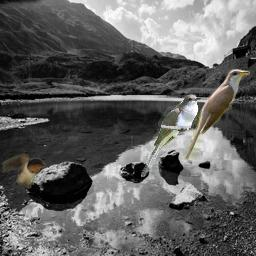Cuckoo: (183, 69, 250, 162), (140, 94, 201, 177)
Swallow: (1, 153, 46, 189)
